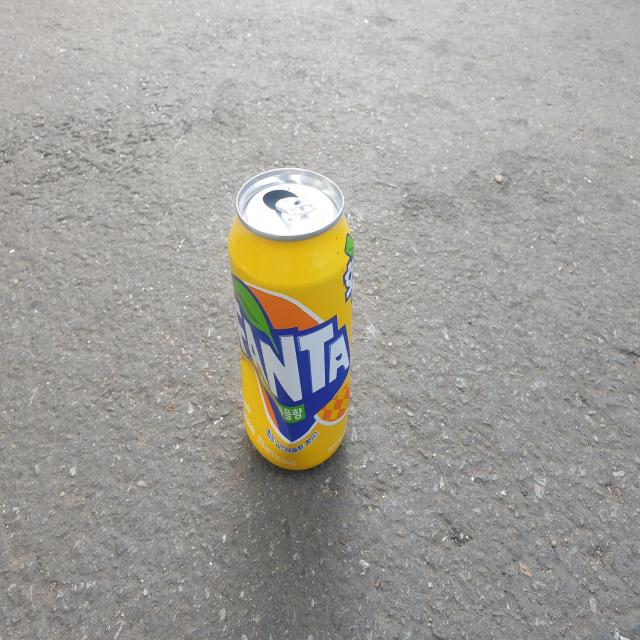can: (228, 168, 354, 470)
